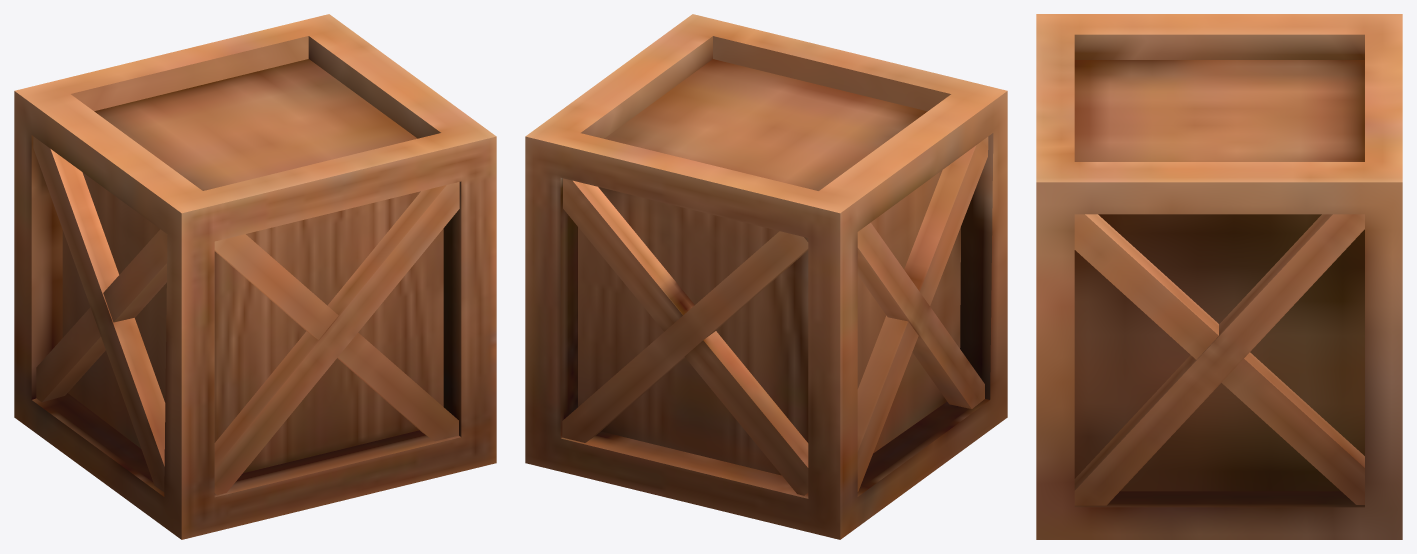
The model's file is SM_Stylized_Box_var2.glb.
3 renders of one model, left to right at view 1: azimuth 30°, elevation 25°; view 2: azimuth 150°, elevation 25°; view 3: azimuth 270°, elevation 25°, orthographic. The views are drawn at different scales.
Visible parts, largest first — view 1: SM_Stylized_Box_var2; view 2: SM_Stylized_Box_var2; view 3: SM_Stylized_Box_var2.
Boxes of the visible parts, x1,y1,x2,y2 form: SM_Stylized_Box_var2: [14, 14, 496, 539]; SM_Stylized_Box_var2: [525, 14, 1007, 539]; SM_Stylized_Box_var2: [1036, 14, 1402, 539].
Size of the model in its own units: 0.7113 by 0.705 by 0.6548.
1 material, 1 textured.
